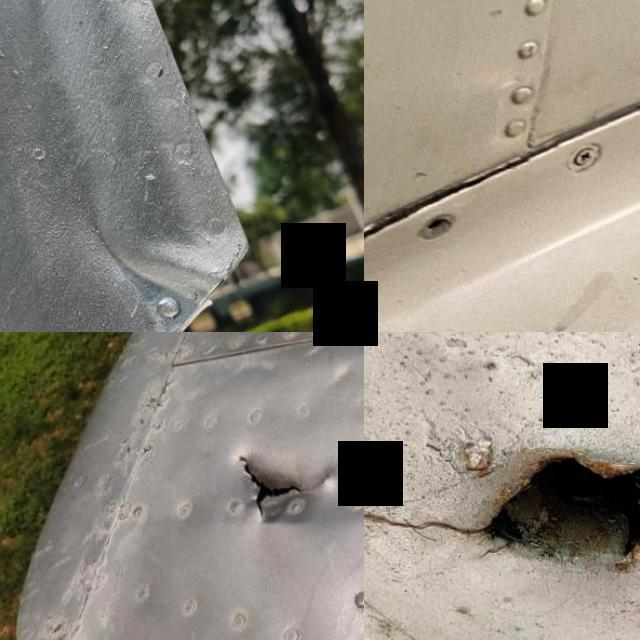Crack: (364, 415, 640, 583), (227, 442, 345, 532), (364, 209, 411, 298)
Dent: (84, 201, 236, 332)
Missing_Fastener: (420, 216, 457, 238)
